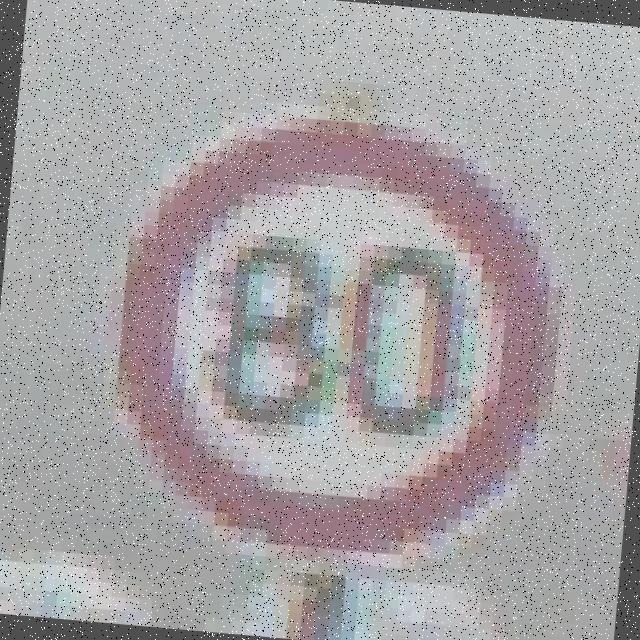Ograniczenie predkosci do 80: (108, 109, 570, 568)
